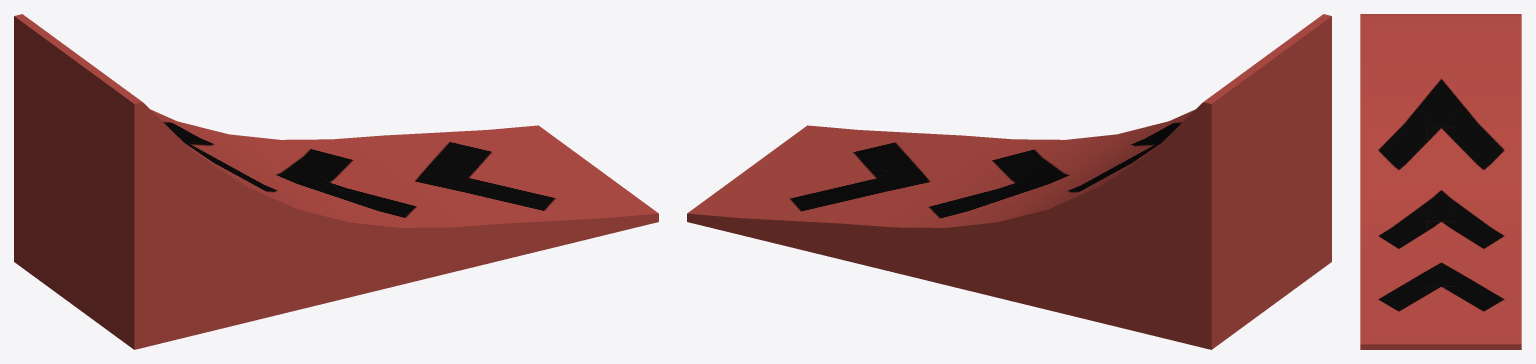
The model's file is mode_Springboard.FBX.
3 renders of one model, left to right at view 1: azimuth 30°, elevation 25°; view 2: azimuth 150°, elevation 25°; view 3: azimuth 270°, elevation 25°, orthographic. The views are drawn at different scales.
Parts seen in each view (by area): view 1: Box001; view 2: Box001; view 3: Box001.
Part boxes in pixels (bbox=[...]): Box001: bbox=[14, 14, 658, 349]; Box001: bbox=[687, 14, 1331, 349]; Box001: bbox=[1360, 14, 1521, 349].
Bounding box in the file's own units: 516 × 231 × 205.
